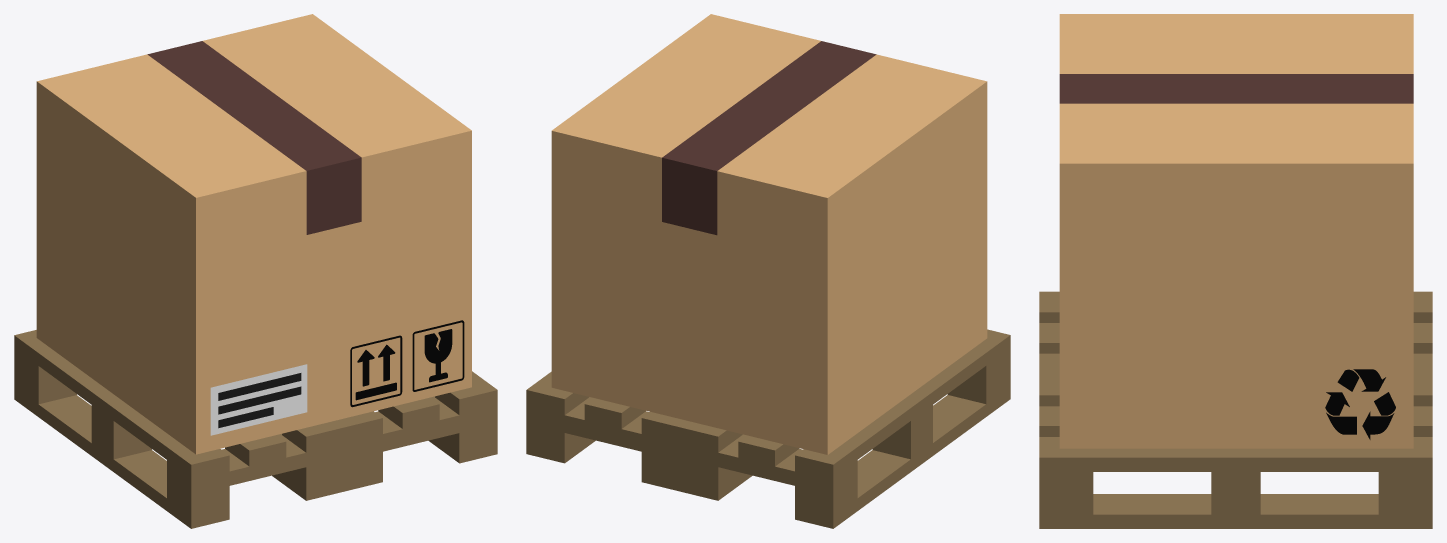
The model's file is package5.fbx.
3 renders of one model, left to right at view 1: azimuth 30°, elevation 25°; view 2: azimuth 150°, elevation 25°; view 3: azimuth 270°, elevation 25°, orthographic. The views are drawn at different scales.
Visible parts, largest first — view 1: Package, Palette, Band, Plane.002, Plane, Plane.001, Plane.004, Plane.003; view 2: Package, Palette, Band; view 3: Package, Palette, Band, Plane.006.
Boxes of the visible parts, x1,y1,x2,y2 form: Package: (36,14,471,454); Palette: (14,330,497,528); Band: (147,41,361,234); Plane.002: (210,364,307,435); Plane: (412,320,464,391); Plane.001: (350,335,402,407); Plane.004: (218,386,301,414); Plane.003: (218,373,301,400); Package: (551,14,987,454); Palette: (526,329,1010,528); Band: (662,41,876,235); Package: (1059,14,1413,448); Palette: (1039,291,1432,528); Band: (1059,74,1413,103); Plane.006: (1325,369,1395,439).
Size of the model in its own units: 200 by 200 by 200.
Materials: 8 (3 with a texture image).
